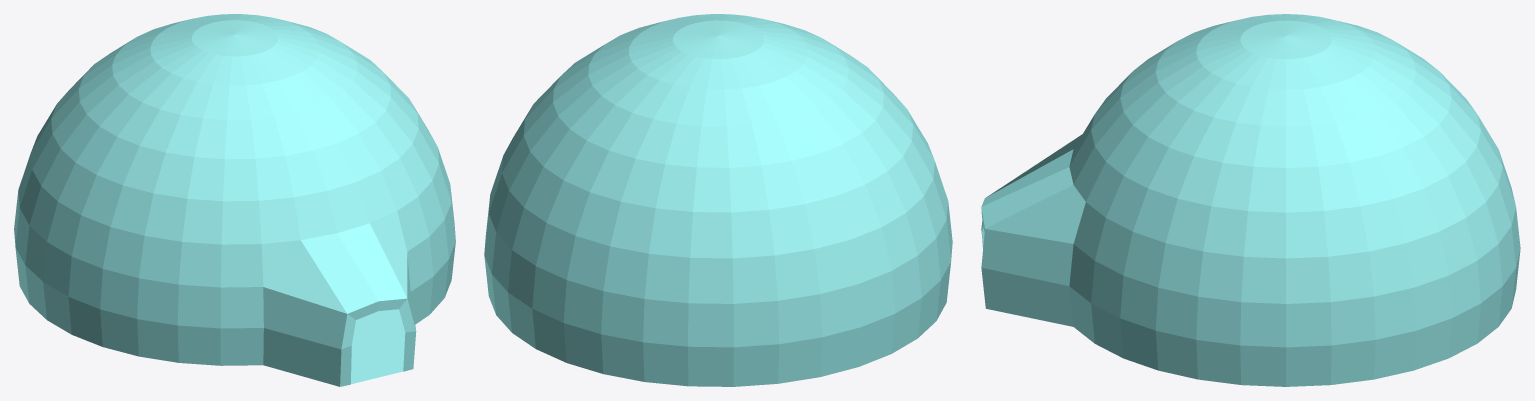
The model's file is Igloo (1).fbx.
The picture shows the model from 3 angles, left to right: view 1: azimuth 30°, elevation 25°; view 2: azimuth 150°, elevation 25°; view 3: azimuth 270°, elevation 25°; orthographic projection. The views are drawn at different scales.
Parts seen in each view (by area): view 1: Sphere; view 2: Sphere; view 3: Sphere.
Boxes of the visible parts, x1,y1,x2,y2 form: Sphere: [14, 14, 455, 386]; Sphere: [484, 14, 952, 386]; Sphere: [981, 14, 1520, 386].
Bounding box in the file's own units: 301 × 180 × 346.
